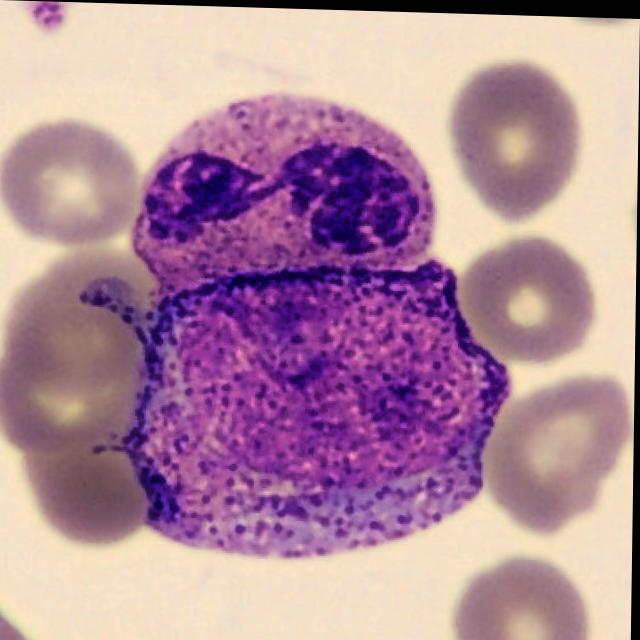Neutrofilo segmentado: (131, 90, 436, 299)
Promielocito: (82, 257, 512, 560)
